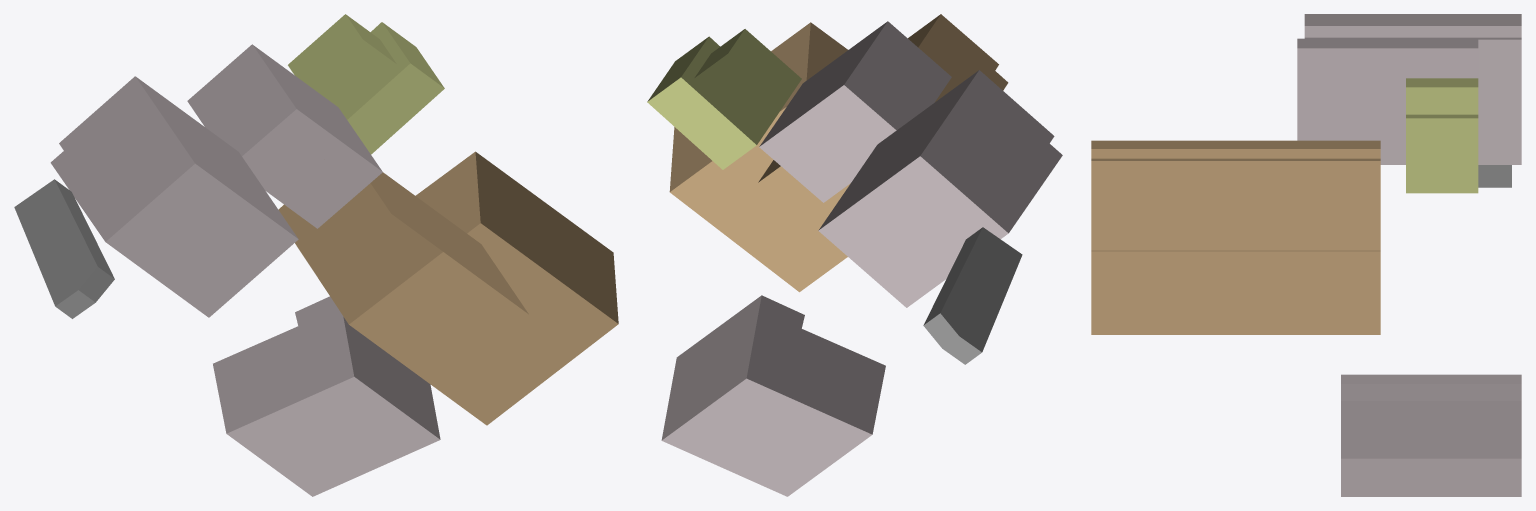
3 views of the same model, side by side, from view 1: azimuth 30°, elevation 25°; view 2: azimuth 150°, elevation 25°; view 3: azimuth 270°, elevation 25° (orthographic). The views are drawn at different scales.
Visible parts, largest first — view 1: 0_3_0_1_1_1_0_3_0; view 2: 0_3_0_1_1_1_0_3_0; view 3: 0_3_0_1_1_1_0_3_0.
Boxes of the visible parts, x1,y1,x2,y2 form: 0_3_0_1_1_1_0_3_0: [14, 14, 618, 496]; 0_3_0_1_1_1_0_3_0: [647, 14, 1062, 496]; 0_3_0_1_1_1_0_3_0: [1091, 14, 1521, 496].
Bounding box in the file's own units: 40.52 × 39.41 × 35.7.
